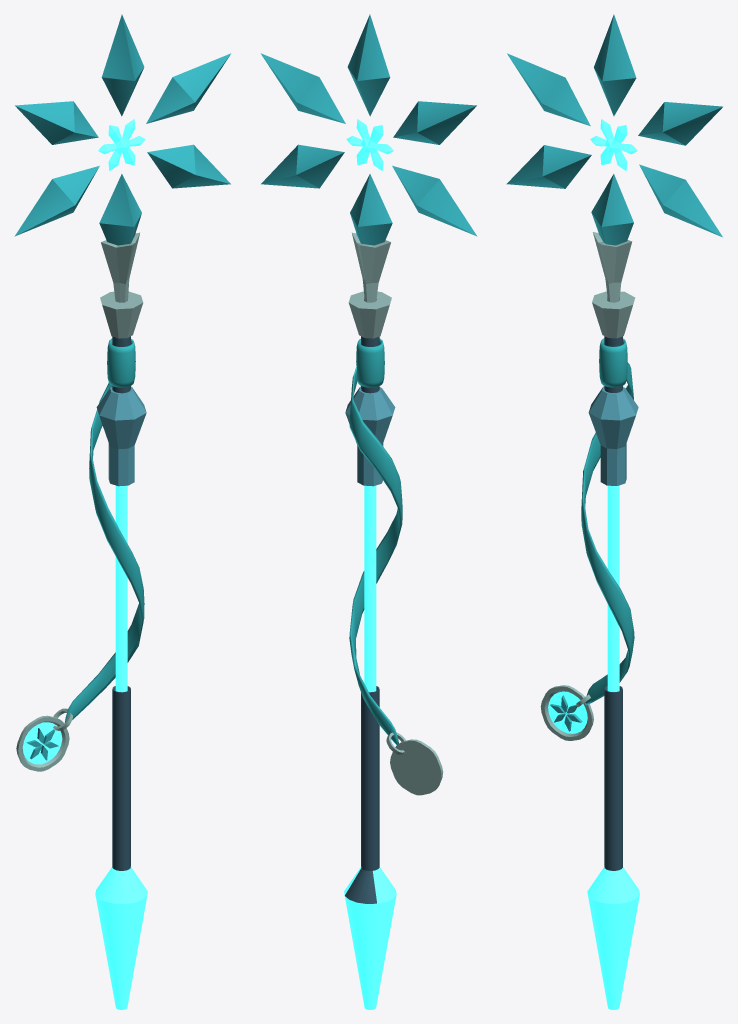
The model's file is Ice staff.fbx.
The picture shows the model from 3 angles, left to right: view 1: azimuth 30°, elevation 25°; view 2: azimuth 150°, elevation 25°; view 3: azimuth 330°, elevation 25°; orthographic projection.
Visible parts, largest first — view 1: Ice staff, Ice_staff top, Ice_Ribbon 2, keychain_ice, Ice_Ribbon, Ice staff crystal; view 2: Ice staff, Ice_staff top, Ice_Ribbon 2, keychain_ice, Ice_Ribbon, Ice staff crystal; view 3: Ice staff, Ice_staff top, Ice_Ribbon 2, keychain_ice, Ice_Ribbon, Ice staff crystal.
Part boxes in pixels (left/top/right/bottom): Ice staff: left=95, top=232, right=147, bottom=1009; Ice_staff top: left=14, top=14, right=231, bottom=245; Ice_Ribbon 2: left=64, top=383, right=144, bottom=722; keychain_ice: left=16, top=708, right=72, bottom=771; Ice_Ribbon: left=107, top=338, right=135, bottom=387; Ice staff crystal: left=98, top=119, right=145, bottom=170; Ice staff: left=344, top=232, right=396, bottom=1009; Ice_staff top: left=260, top=14, right=477, bottom=245; Ice_Ribbon 2: left=349, top=365, right=402, bottom=744; keychain_ice: left=386, top=732, right=443, bottom=795; Ice_Ribbon: left=356, top=338, right=384, bottom=387; Ice staff crystal: left=346, top=119, right=393, bottom=170; Ice staff: left=587, top=232, right=639, bottom=1009; Ice_staff top: left=506, top=14, right=722, bottom=245; Ice_Ribbon 2: left=581, top=363, right=634, bottom=705; keychain_ice: left=540, top=685, right=593, bottom=740; Ice_Ribbon: left=599, top=338, right=627, bottom=387; Ice staff crystal: left=590, top=119, right=637, bottom=171.
Bounding box in the file's own units: 0.5131 × 2.24 × 0.1495.
